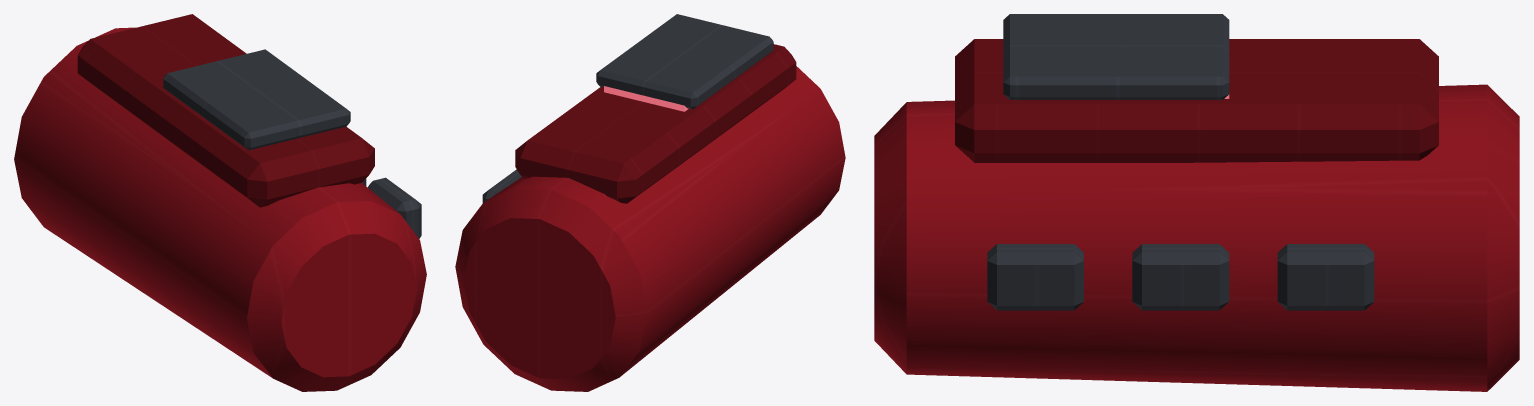
Rendered from gear_gauntlet.glb.
The picture shows the model from 3 angles, left to right: view 1: azimuth 30°, elevation 25°; view 2: azimuth 150°, elevation 25°; view 3: azimuth 270°, elevation 25°; orthographic projection. The views are drawn at different scales.
Parts seen in each view (by area): view 1: Gauntlet_Bracer, Gauntlet_Plate, Gauntlet_LidMesh, Gauntlet_Fin0; view 2: Gauntlet_Bracer, Gauntlet_Plate, Gauntlet_LidMesh, Gauntlet_Screen, Gauntlet_Fin2; view 3: Gauntlet_Bracer, Gauntlet_Plate, Gauntlet_LidMesh, Gauntlet_Fin1, Gauntlet_Fin2, Gauntlet_Fin0.
Boxes of the visible parts, x1,y1,x2,y2 form: Gauntlet_Bracer: (14, 27, 426, 391); Gauntlet_Plate: (77, 14, 374, 207); Gauntlet_LidMesh: (163, 49, 350, 150); Gauntlet_Fin0: (367, 177, 421, 238); Gauntlet_Bracer: (455, 66, 845, 391); Gauntlet_Plate: (515, 44, 796, 203); Gauntlet_LidMesh: (596, 14, 773, 109); Gauntlet_Screen: (604, 86, 688, 111); Gauntlet_Fin2: (482, 169, 521, 202); Gauntlet_Bracer: (874, 84, 1519, 391); Gauntlet_Plate: (955, 39, 1438, 162); Gauntlet_LidMesh: (1003, 14, 1229, 99); Gauntlet_Fin1: (1132, 244, 1229, 310); Gauntlet_Fin2: (1277, 244, 1374, 310); Gauntlet_Fin0: (987, 244, 1083, 310).
Size of the model in its own units: 0.1037 by 0.1137 by 0.2.
4 materials, 4 textured.
